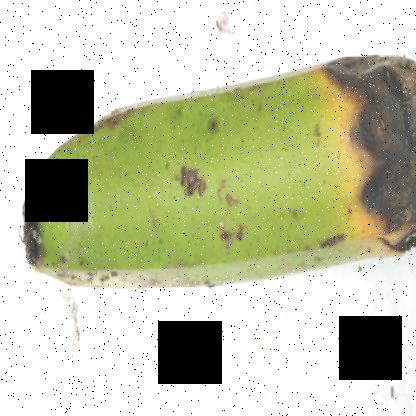rotten: (268, 13, 415, 259)
unripe: (14, 51, 318, 326)
